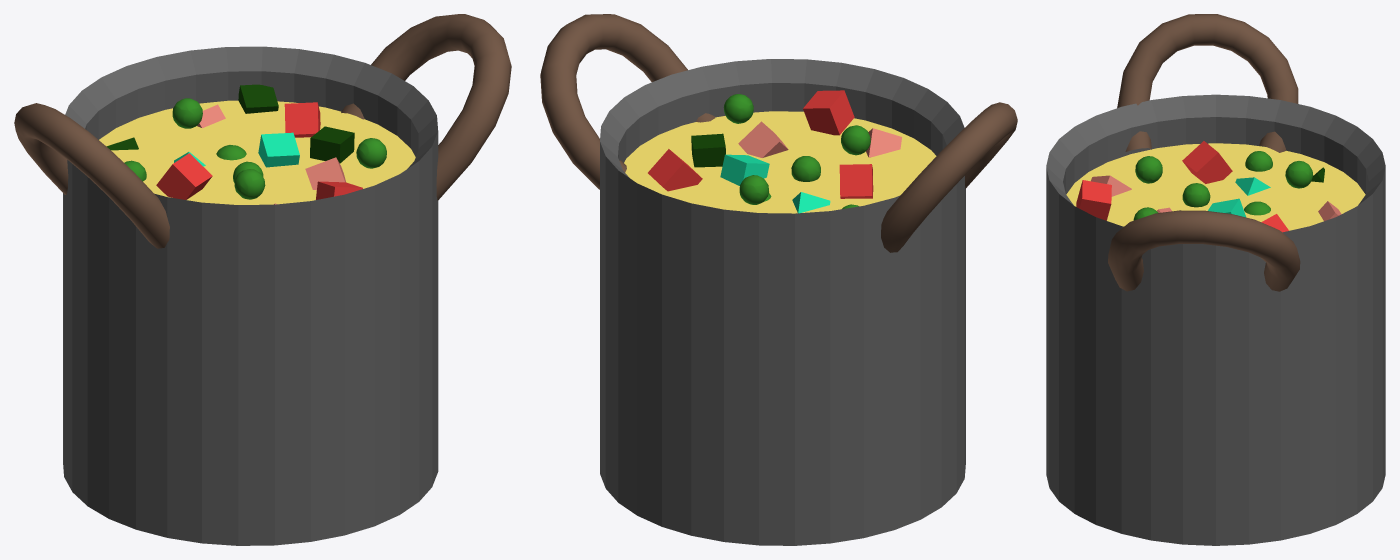
File: Gar.fbx
The picture shows the model from 3 angles, left to right: view 1: azimuth 30°, elevation 25°; view 2: azimuth 150°, elevation 25°; view 3: azimuth 270°, elevation 25°; orthographic projection. The views are drawn at different scales.
Parts seen in each view (by area): view 1: Cylinder, Cylinder.001, BézierCurve.001, BézierCurve, Mball, Cube.001, Cube.008, Cube.009, Cube.006, Cube.007, Cube.004, Cube.005; view 2: Cylinder, Cylinder.001, BézierCurve.001, BézierCurve, Mball, Cube.005, Cube.006, Cube.001, Cube.008, Cube.009, Cube.004, Cube; view 3: Cylinder, Cylinder.001, BézierCurve, BézierCurve.001, Mball, Cube.001, Cube.005, Cube.009.
Boxes of the visible parts, left/top/right/bottom form: Cylinder: left=63, top=46, right=438, bottom=545; Cylinder.001: left=99, top=100, right=415, bottom=204; BézierCurve.001: left=341, top=14, right=511, bottom=200; BézierCurve: left=14, top=103, right=169, bottom=248; Mball: left=124, top=98, right=386, bottom=199; Cube.001: left=156, top=153, right=212, bottom=199; Cube.008: left=310, top=126, right=354, bottom=163; Cube.009: left=258, top=132, right=299, bottom=167; Cube.006: left=284, top=102, right=320, bottom=137; Cube.007: left=238, top=84, right=278, bottom=113; Cube.004: left=305, top=157, right=345, bottom=190; Cube.005: left=316, top=181, right=362, bottom=199; Cylinder: left=600, top=59, right=965, bottom=545; Cylinder.001: left=624, top=111, right=936, bottom=213; BézierCurve.001: left=540, top=14, right=715, bottom=189; BézierCurve: left=881, top=102, right=1017, bottom=252; Mball: left=723, top=94, right=870, bottom=208; Cube.005: left=803, top=90, right=854, bottom=135; Cube.006: left=648, top=149, right=702, bottom=191; Cube.001: left=839, top=164, right=873, bottom=198; Cube.008: left=691, top=133, right=725, bottom=167; Cube.009: left=720, top=154, right=769, bottom=185; Cube.004: left=738, top=121, right=788, bottom=157; Cube: left=866, top=128, right=901, bottom=157; Cylinder: left=1046, top=94, right=1385, bottom=545; Cylinder.001: left=1066, top=143, right=1365, bottom=230; BézierCurve: left=1117, top=14, right=1298, bottom=152; BézierCurve.001: left=1108, top=210, right=1300, bottom=291; Mball: left=1133, top=151, right=1313, bottom=220; Cube.001: left=1182, top=141, right=1232, bottom=183; Cube.005: left=1076, top=180, right=1111, bottom=220; Cube.009: left=1208, top=198, right=1246, bottom=217.
Bounding box in the file's own units: 310 × 266 × 222.
